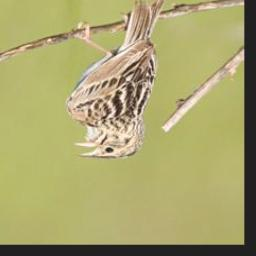Sparrow: (64, 0, 168, 162)
